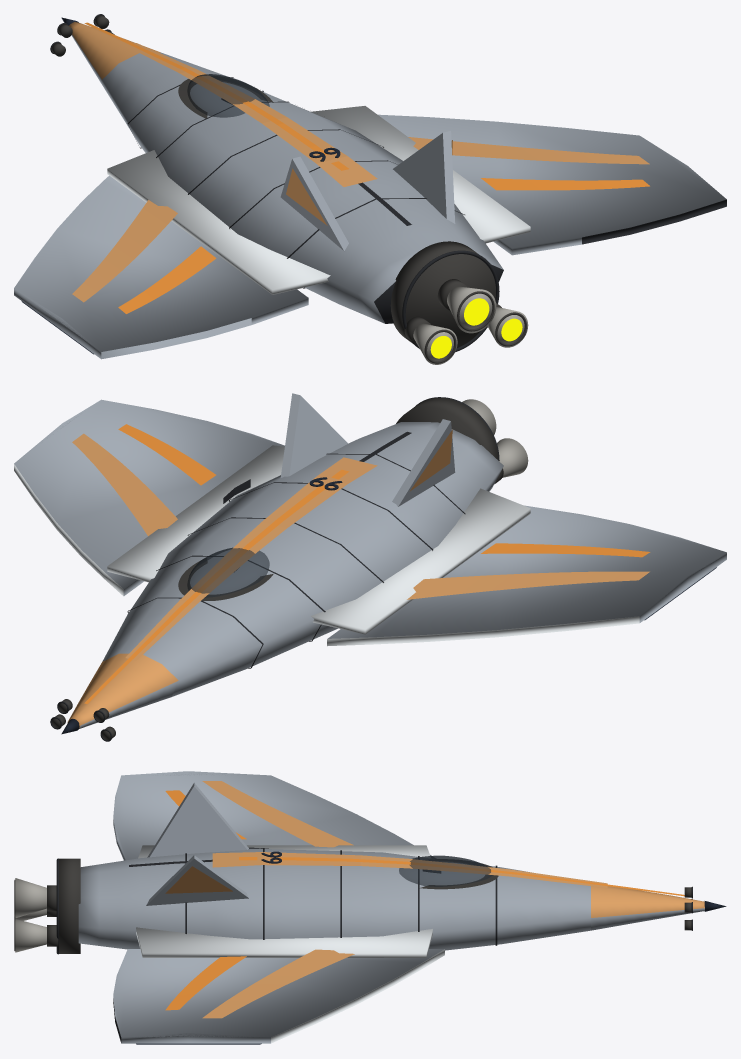
File: Ship_DeltaWing_535536.glb
3 views of the same model, one above another, from view 1: azimuth 30°, elevation 25°; view 2: azimuth 150°, elevation 25°; view 3: azimuth 270°, elevation 25° (orthographic). The views are drawn at different scales.
Parts seen in each view (by area): view 1: Fuselage_MainWedgeBody, Wing_Left_DeltaAerofoil, Wing_Right_DeltaAerofoil, WingRoot_Left_BlendedShoulder, EngineBlock_AftIntegratedHousing, WingRoot_Right_BlendedShoulder, PaintStripe_DorsalPrimaryArrow, TailFin_Right_CantedStabilizer, PaintWingChevron_Left_PrimarySweep, PaintWingChevron_Right_PrimarySweep, CanopyGlass_LowInsetDome, Nose_ForwardNeedle (+11 smaller); view 2: Fuselage_MainWedgeBody, Wing_Left_DeltaAerofoil, Wing_Right_DeltaAerofoil, WingRoot_Left_BlendedShoulder, WingRoot_Right_BlendedShoulder, Nose_ForwardNeedle, PaintStripe_DorsalPrimaryArrow, PaintWingChevron_Left_PrimarySweep, PaintWingChevron_Right_PrimarySweep, TailFin_Right_CantedStabilizer, CanopyGlass_LowInsetDome, EngineBlock_AftIntegratedHousing (+7 smaller); view 3: Fuselage_MainWedgeBody, Wing_Right_DeltaAerofoil, Wing_Left_DeltaAerofoil, WingRoot_Right_BlendedShoulder, TailFin_Left_CantedStabilizer, Nose_ForwardNeedle, PaintStripe_DorsalPrimaryArrow, PaintWingChevron_Right_PrimarySweep, CanopyGlass_LowInsetDome, PaintWingChevron_Left_PrimarySweep, EngineBlock_AftIntegratedHousing, TailFin_Right_CantedStabilizer (+7 smaller).
Part boxes in pixels (box(x1,y1,x2,y2)): Fuselage_MainWedgeBody: box(102, 52, 503, 323); Wing_Left_DeltaAerofoil: box(14, 175, 308, 359); Wing_Right_DeltaAerofoil: box(378, 114, 726, 255); WingRoot_Left_BlendedShoulder: box(107, 150, 330, 294); EngineBlock_AftIntegratedHousing: box(390, 241, 495, 347); WingRoot_Right_BlendedShoulder: box(311, 106, 530, 243); PaintStripe_DorsalPrimaryArrow: box(125, 43, 377, 186); TailFin_Right_CantedStabilizer: box(393, 131, 455, 223); PaintWingChevron_Left_PrimarySweep: box(72, 200, 177, 302); PaintWingChevron_Right_PrimarySweep: box(408, 137, 649, 164); CanopyGlass_LowInsetDome: box(187, 74, 269, 117); Nose_ForwardNeedle: box(69, 22, 160, 94); Fuselage_MainWedgeBody: box(102, 422, 503, 696); Wing_Left_DeltaAerofoil: box(327, 505, 726, 646); Wing_Right_DeltaAerofoil: box(14, 399, 284, 596); WingRoot_Left_BlendedShoulder: box(311, 488, 530, 634); WingRoot_Right_BlendedShoulder: box(107, 445, 284, 582); Nose_ForwardNeedle: box(67, 653, 178, 728); PaintStripe_DorsalPrimaryArrow: box(125, 457, 377, 660); PaintWingChevron_Left_PrimarySweep: box(407, 571, 649, 599); PaintWingChevron_Right_PrimarySweep: box(72, 433, 177, 536); TailFin_Right_CantedStabilizer: box(280, 393, 348, 477); CanopyGlass_LowInsetDome: box(187, 547, 269, 597); EngineBlock_AftIntegratedHousing: box(396, 397, 498, 460); Fuselage_MainWedgeBody: box(78, 848, 590, 950); Wing_Right_DeltaAerofoil: box(113, 949, 444, 1043); Wing_Left_DeltaAerofoil: box(113, 771, 435, 860); WingRoot_Right_BlendedShoulder: box(136, 927, 432, 957); TailFin_Left_CantedStabilizer: box(147, 783, 248, 857); Nose_ForwardNeedle: box(591, 886, 704, 930); PaintStripe_DorsalPrimaryArrow: box(212, 852, 607, 887); PaintWingChevron_Right_PrimarySweep: box(202, 949, 354, 1018); CanopyGlass_LowInsetDome: box(399, 855, 491, 886); PaintWingChevron_Left_PrimarySweep: box(202, 781, 353, 847); EngineBlock_AftIntegratedHousing: box(59, 858, 80, 953); TailFin_Right_CantedStabilizer: box(146, 855, 248, 905).
Bounding box in the file's own units: 6.33 × 1.51 × 7.28.
